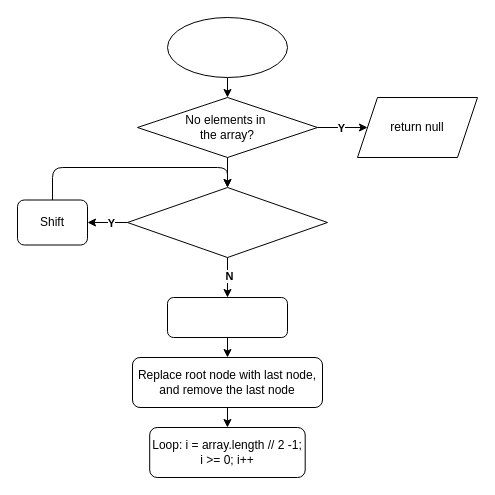
This 495x495 diagram has some shape labels left out. Each missing label, with the centre of its shape:
Min = root node: point 227,317
Start: point 227,47
Top cell entropy == 0?: point 227,222
